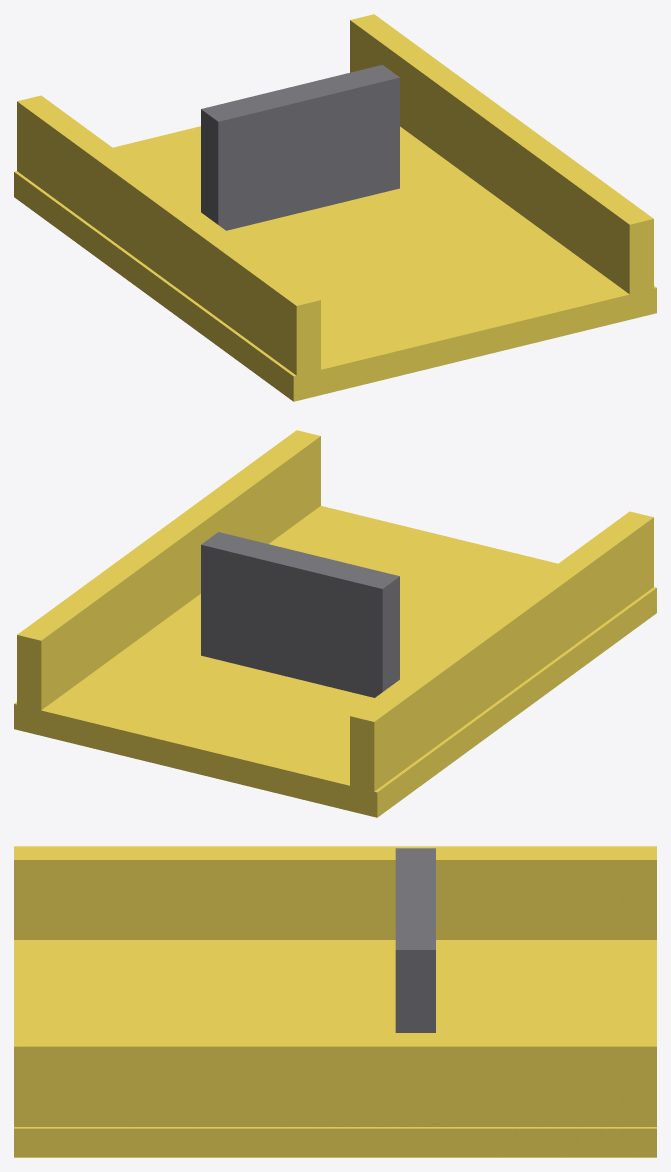
The model's file is pipe-frame.glb.
The picture shows the model from 3 angles, top to bottom: view 1: azimuth 30°, elevation 25°; view 2: azimuth 150°, elevation 25°; view 3: azimuth 270°, elevation 25°; orthographic projection. The views are drawn at different scales.
Visible parts, largest first — view 1: pipe-frame; view 2: pipe-frame; view 3: pipe-frame.
Boxes of the visible parts, box(x1,y1,x2,y2) form: pipe-frame: box(14, 14, 656, 401); pipe-frame: box(14, 430, 656, 817); pipe-frame: box(14, 846, 656, 1157).
Size of the model in its own units: 1.2 by 0.43 by 1.6.
